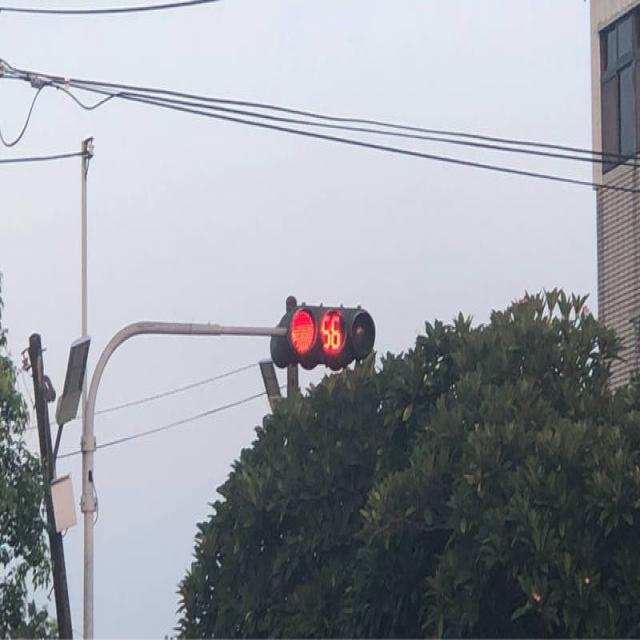red light: (270, 306, 376, 372)
